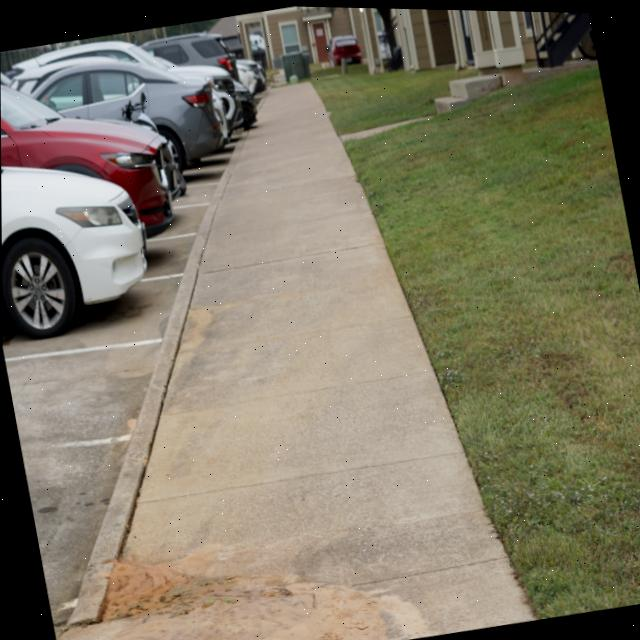Automobile: (0, 32, 266, 338), (328, 33, 361, 63)
Road: (4, 340, 160, 626), (2, 276, 180, 359), (145, 142, 234, 276)
Sidewalk: (58, 82, 534, 640)
